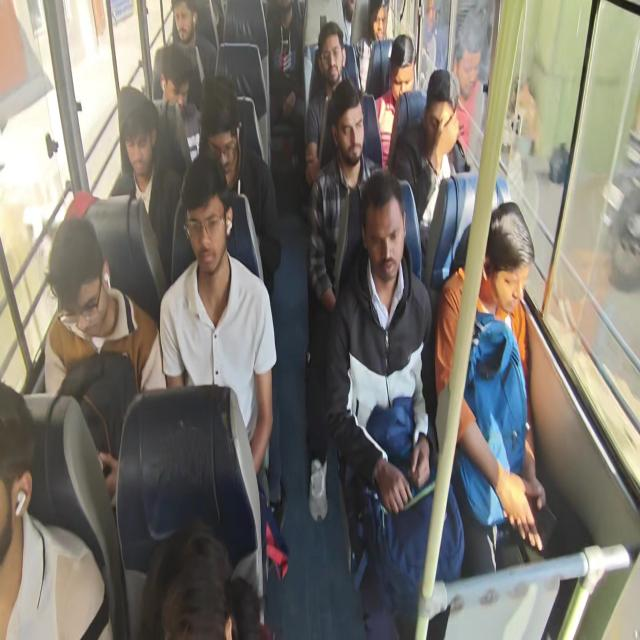person: (0, 365, 44, 572), (50, 225, 111, 350), (482, 213, 537, 329), (171, 178, 234, 277), (358, 173, 405, 289), (200, 92, 239, 173), (332, 92, 371, 171), (120, 92, 154, 173), (159, 50, 197, 114), (422, 79, 454, 145), (389, 41, 416, 106), (167, 0, 196, 45), (319, 30, 346, 77), (365, 8, 392, 40), (266, 0, 301, 18)
